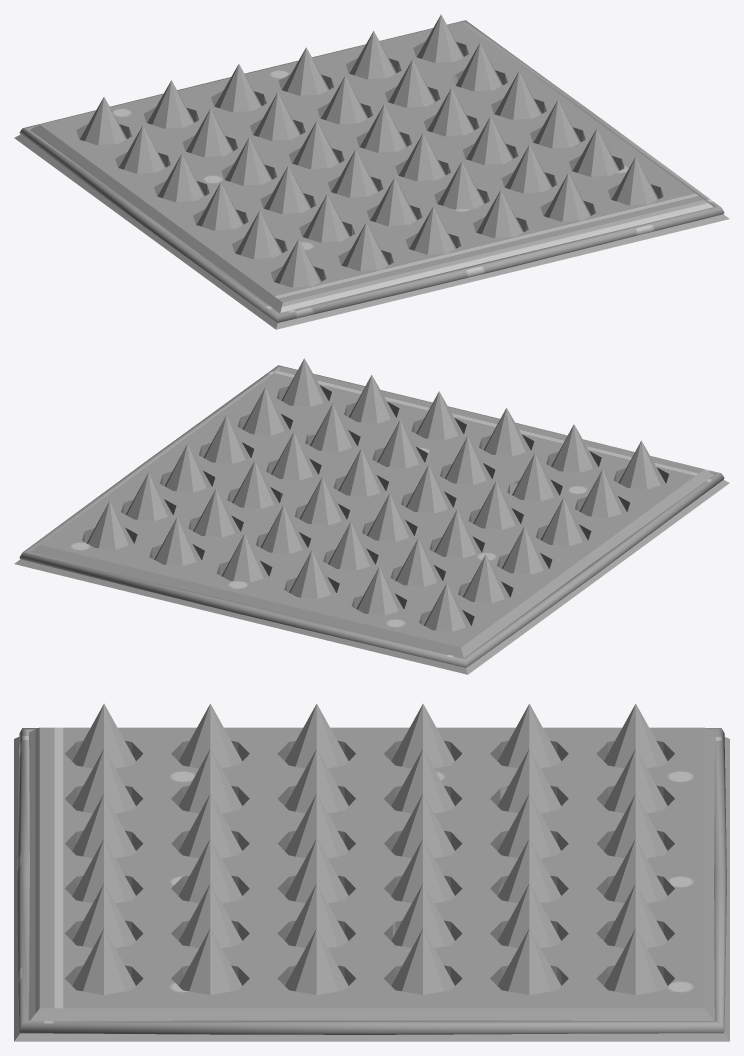
Rendered from Spikes_2m.fbx.
3 views of the same model, one above another, from view 1: azimuth 30°, elevation 25°; view 2: azimuth 150°, elevation 25°; view 3: azimuth 270°, elevation 25° (orthographic). The views are drawn at different scales.
Visible parts, largest first — view 1: Spikes_2m; view 2: Spikes_2m; view 3: Spikes_2m.
Boxes of the visible parts, x1,y1,x2,y2 form: Spikes_2m: [14, 14, 729, 329]; Spikes_2m: [14, 358, 729, 674]; Spikes_2m: [14, 703, 729, 1041].
Size of the model in its own units: 200 by 22.41 by 200.
